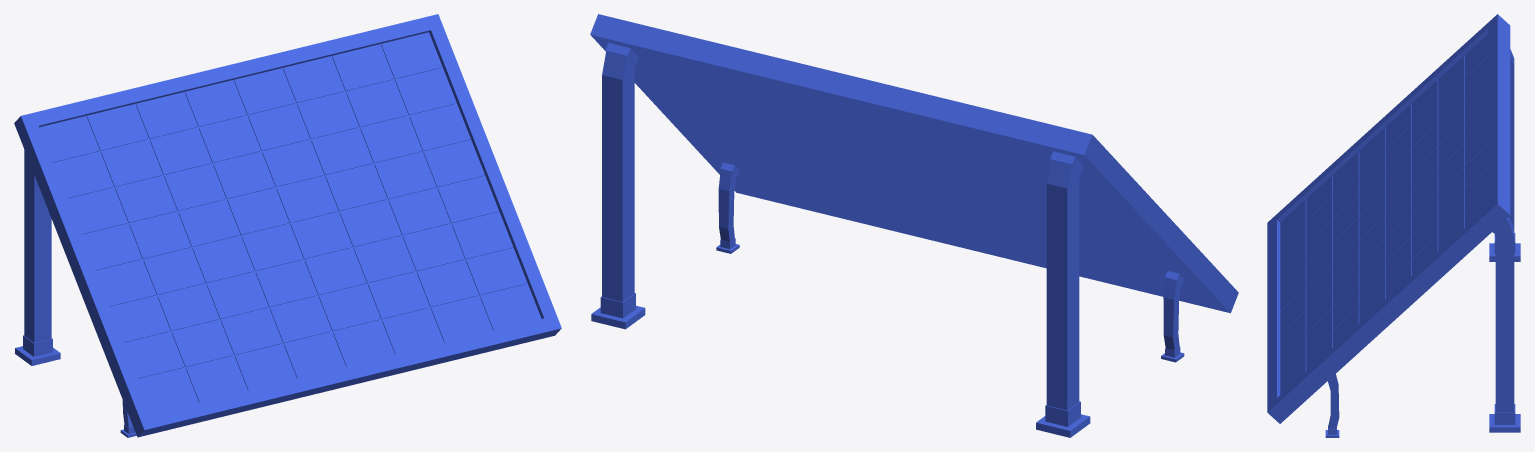
File: SolarWith_Final_FBX.fbx
3 views of the same model, side by side, from view 1: azimuth 30°, elevation 25°; view 2: azimuth 150°, elevation 25°; view 3: azimuth 270°, elevation 25° (orthographic). The views are drawn at different scales.
Visible parts, largest first — view 1: Sw/ Solar Panel Base, Sw/ Back Legs; view 2: Sw/ Solar Panel Base, Sw/ Back Legs, Sw/ Front Legs; view 3: Sw/ Solar Panel Base, Sw/ Back Legs, Sw/ Front Legs.
Part boxes in pixels (x1,y1,x2,y2): Sw/ Solar Panel Base: (14, 14, 561, 437); Sw/ Back Legs: (15, 150, 60, 365); Sw/ Solar Panel Base: (590, 14, 1238, 313); Sw/ Back Legs: (591, 43, 1090, 437); Sw/ Front Legs: (716, 162, 1184, 362); Sw/ Solar Panel Base: (1267, 14, 1510, 423); Sw/ Back Legs: (1489, 49, 1520, 432); Sw/ Front Legs: (1325, 374, 1339, 437).
Size of the model in its own units: 969 by 573 by 546.
